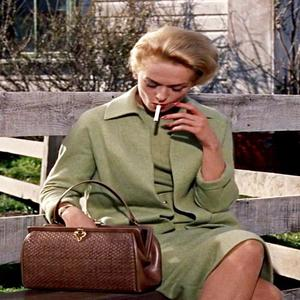cigarette: (151, 102, 161, 127)
